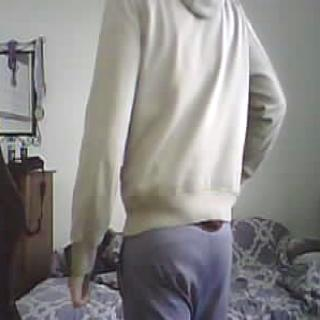Blue Sweatpants: (121, 223, 232, 320)
Yellow Hoodie: (83, 0, 270, 222)
